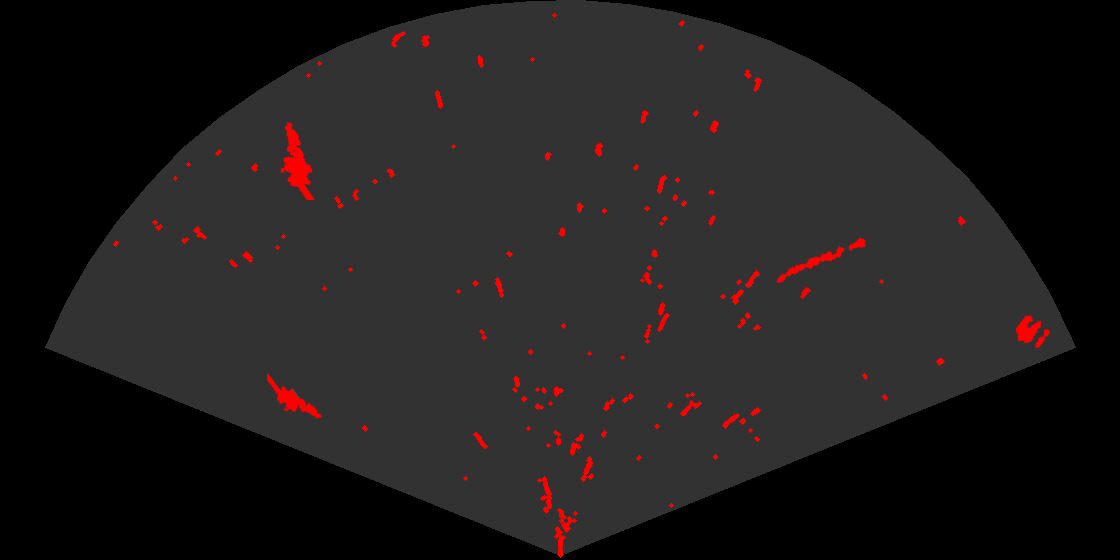ball: (1014, 314, 1051, 350)
chain: (775, 236, 868, 285)
frogman: (279, 121, 316, 200), (267, 374, 323, 420)
